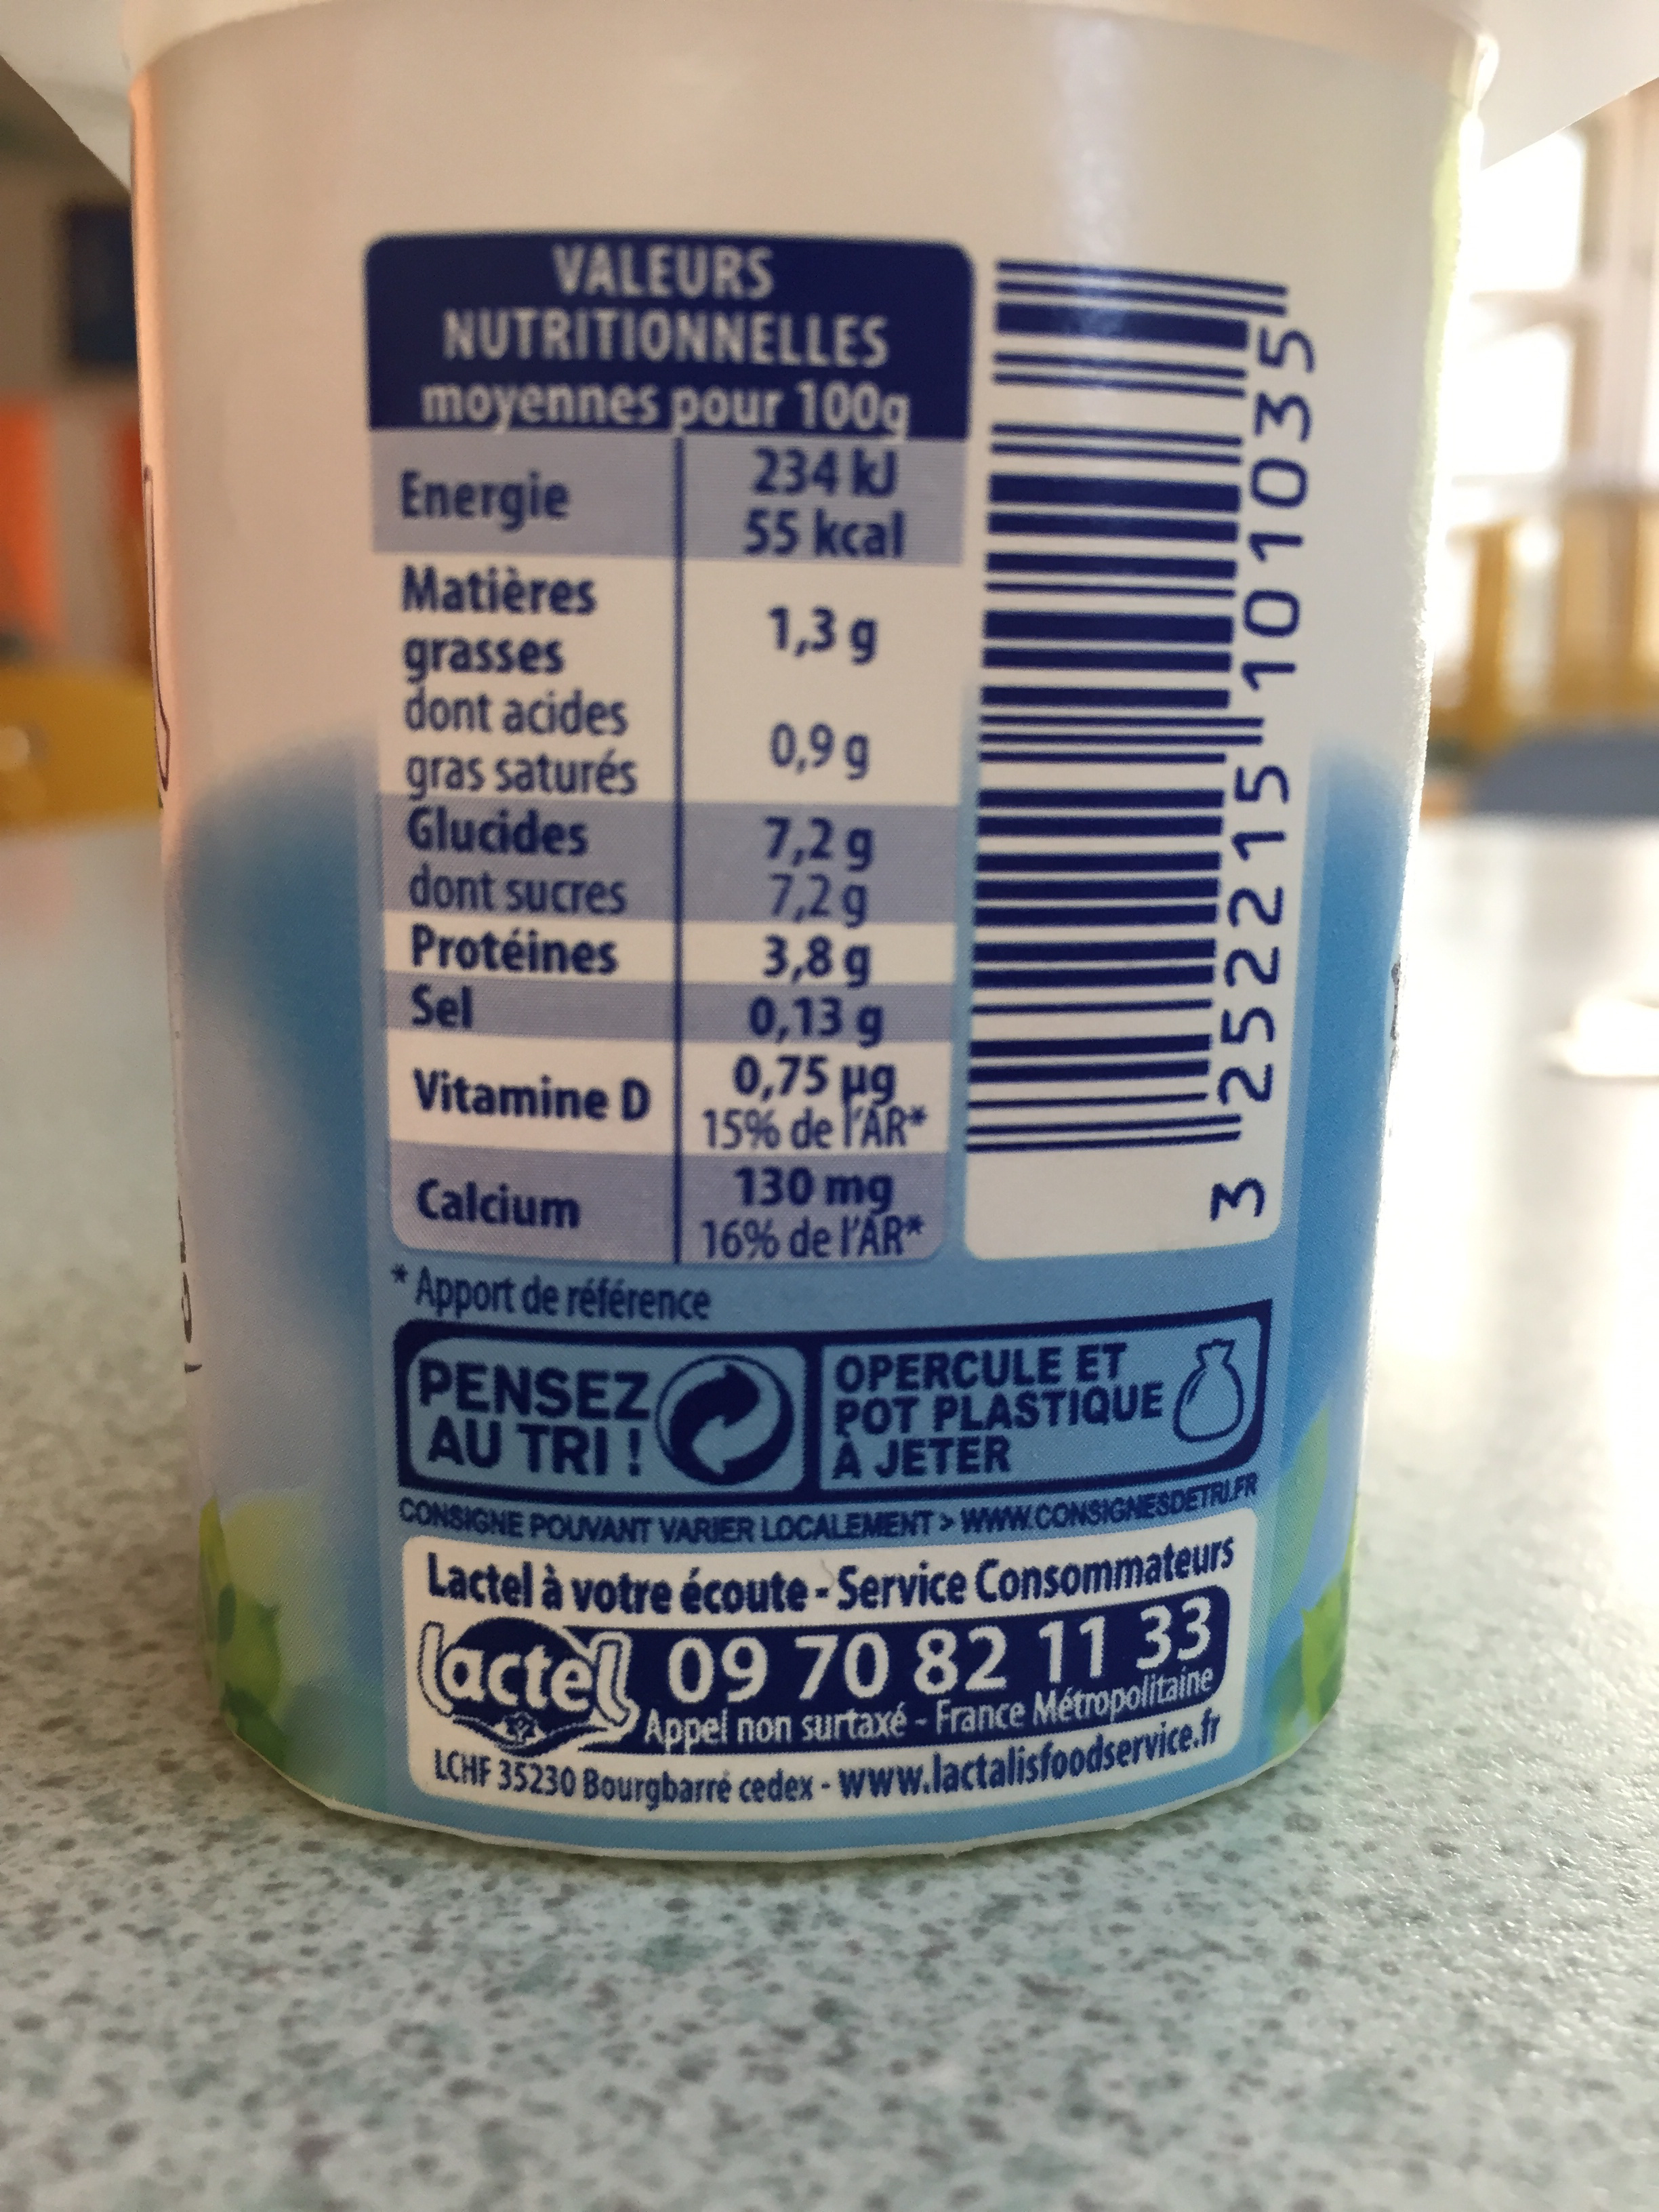column: (396, 462, 655, 1235), (701, 451, 927, 1259)
table: (359, 232, 976, 1275)
